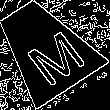M_NW: (9, 15, 81, 82)
